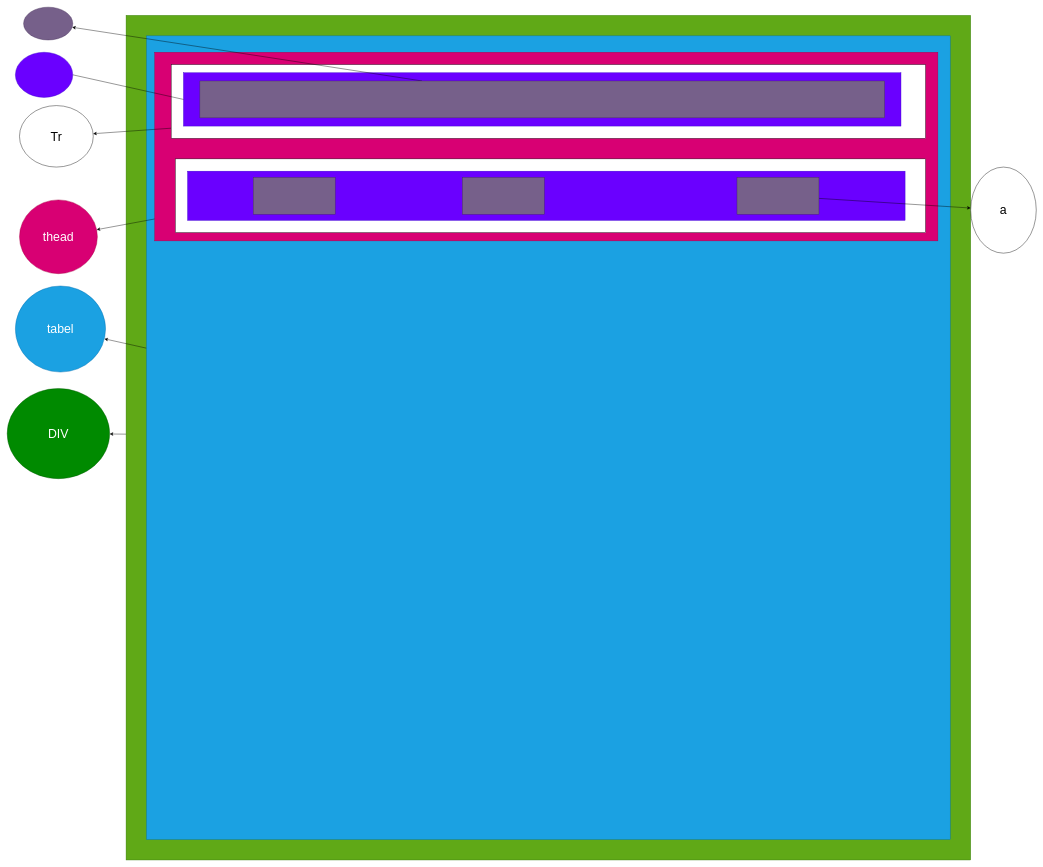
Some shapes in this 1043 by 867 pixel diagram are drawn without their labels. Here are the shapes that lost their labels. From the top down, the centre of each, then its label:
(48,23): img
(44,74): Td
